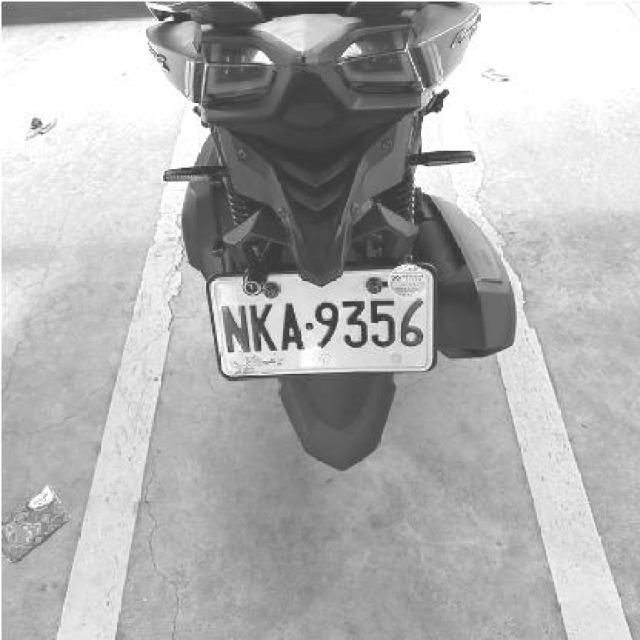2: (394, 297, 424, 352)
5: (340, 295, 369, 354), (369, 297, 397, 354)
9: (313, 298, 342, 354)
A: (275, 302, 303, 352)
K: (248, 300, 275, 352)
N: (220, 302, 250, 353)
